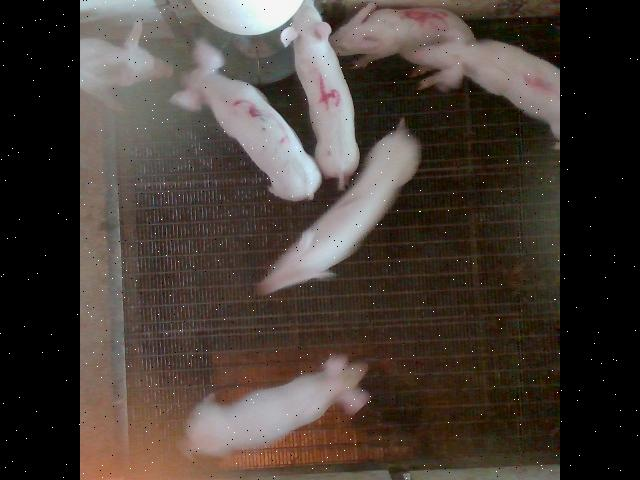pig-1: (406, 39, 560, 137)
pig-2: (258, 120, 420, 294)
pig-3: (171, 39, 321, 200)
pig-4: (281, 0, 359, 188)
pig-5: (330, 1, 475, 66)
